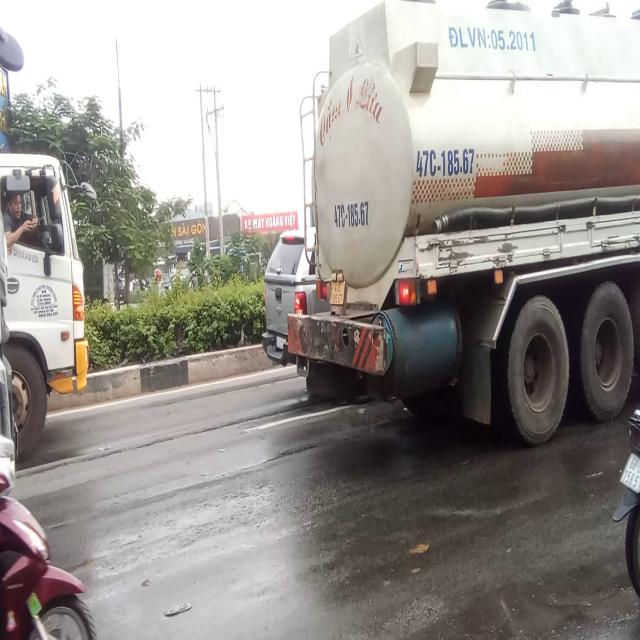bien_vang: (328, 281, 348, 306)
